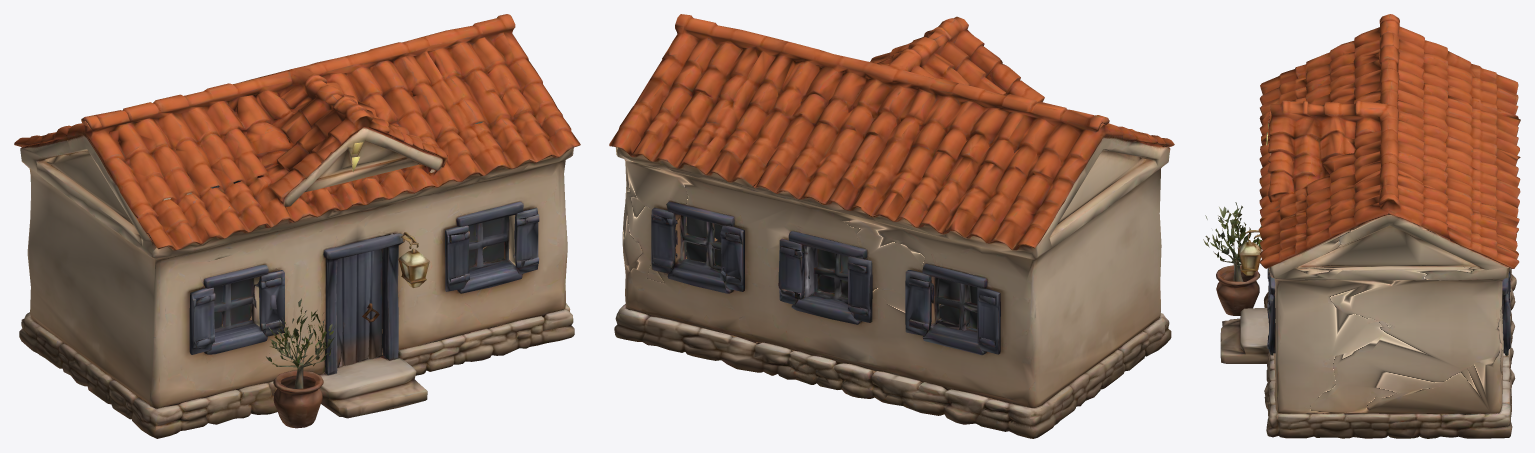
File: home_cottage_t1.trellis.glb
The picture shows the model from 3 angles, left to right: view 1: azimuth 30°, elevation 25°; view 2: azimuth 150°, elevation 25°; view 3: azimuth 270°, elevation 25°; orthographic projection. The views are drawn at different scales.
Parts seen in each view (by area): view 1: world; view 2: world; view 3: world.
Boxes of the visible parts, <box> form: world: <box>14,14,580,438</box>; world: <box>609,14,1174,438</box>; world: <box>1203,14,1520,438</box>.
Size of the model in its own units: 6.62 by 4.12 by 4.8.
1 material, 1 textured.
